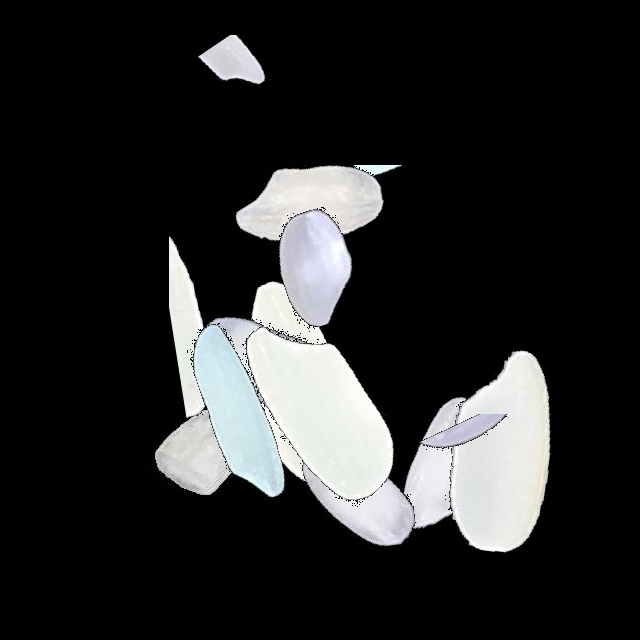Broken: (375, 485, 625, 600), (122, 35, 372, 147), (169, 184, 277, 434), (364, 414, 614, 520), (302, 165, 552, 247)
Full: (170, 258, 420, 508), (315, 340, 565, 590), (136, 239, 386, 489), (377, 326, 627, 576), (233, 375, 483, 625), (197, 281, 447, 531), (74, 326, 324, 576), (185, 80, 435, 330), (112, 286, 362, 536), (193, 143, 443, 393)
